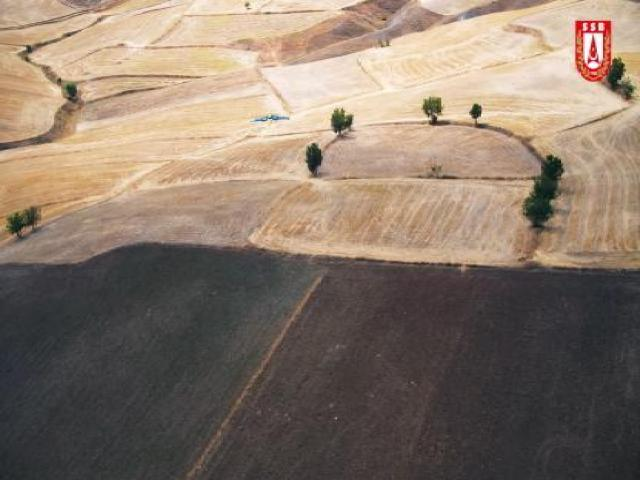uav: (251, 109, 291, 126)
